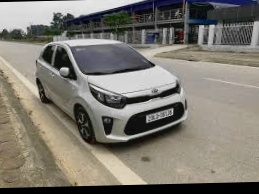Bien-so: (144, 116, 170, 133)
